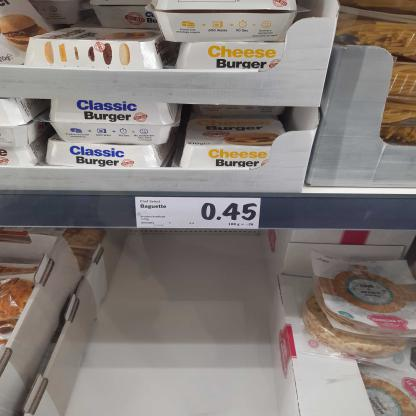prtg: (136, 198, 261, 230)
